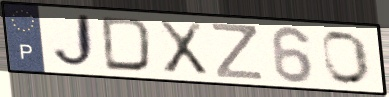6: (270, 24, 314, 85)
D: (99, 15, 155, 75)
J: (49, 11, 99, 72)
O: (320, 29, 374, 87)
X: (155, 18, 210, 77)
Z: (209, 21, 266, 82)
